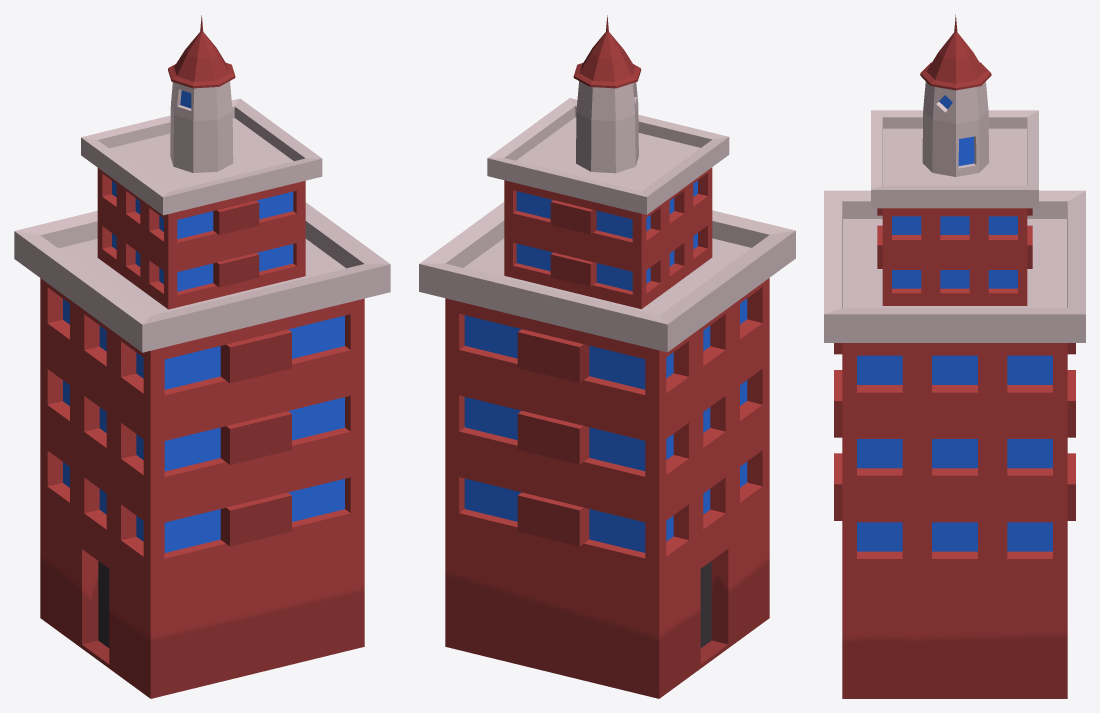
Rendered from house19.fbx.
The picture shows the model from 3 angles, left to right: view 1: azimuth 30°, elevation 25°; view 2: azimuth 150°, elevation 25°; view 3: azimuth 270°, elevation 25°; orthographic projection. The views are drawn at different scales.
Visible parts, largest first — view 1: building.003_LOD0; view 2: building.003_LOD0; view 3: building.003_LOD0.
Boxes of the visible parts, x1,y1,x2,y2 form: building.003_LOD0: [14, 15, 390, 698]; building.003_LOD0: [419, 15, 795, 698]; building.003_LOD0: [824, 14, 1085, 698].
Size of what is drawn, in the model's own units: 1069 by 2545 by 956.
